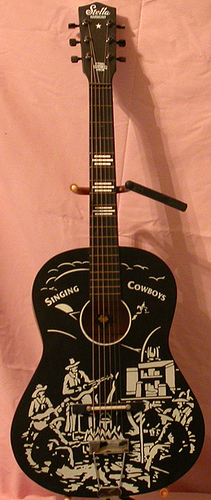guitar: (8, 4, 205, 496)
